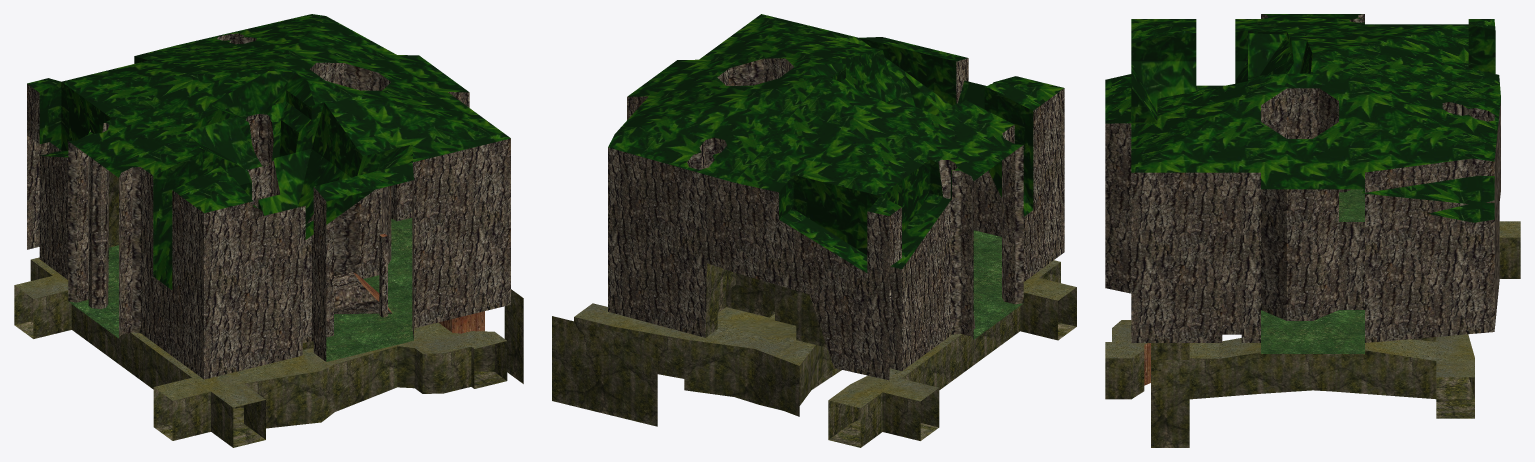
File: woods1cell.gltf
3 renders of one model, left to right at view 1: azimuth 30°, elevation 25°; view 2: azimuth 150°, elevation 25°; view 3: azimuth 270°, elevation 25°, orthographic. The views are drawn at different scales.
Visible parts, largest first — view 1: woods1cell; view 2: woods1cell; view 3: woods1cell.
Boxes of the visible parts, box(x1,y1,x2,y2) form: woods1cell: box(14, 14, 523, 447); woods1cell: box(552, 14, 1076, 447); woods1cell: box(1105, 14, 1520, 447).
Bounding box in the file's own units: 32 × 26 × 32.
Materials: 11 (11 with a texture image).
